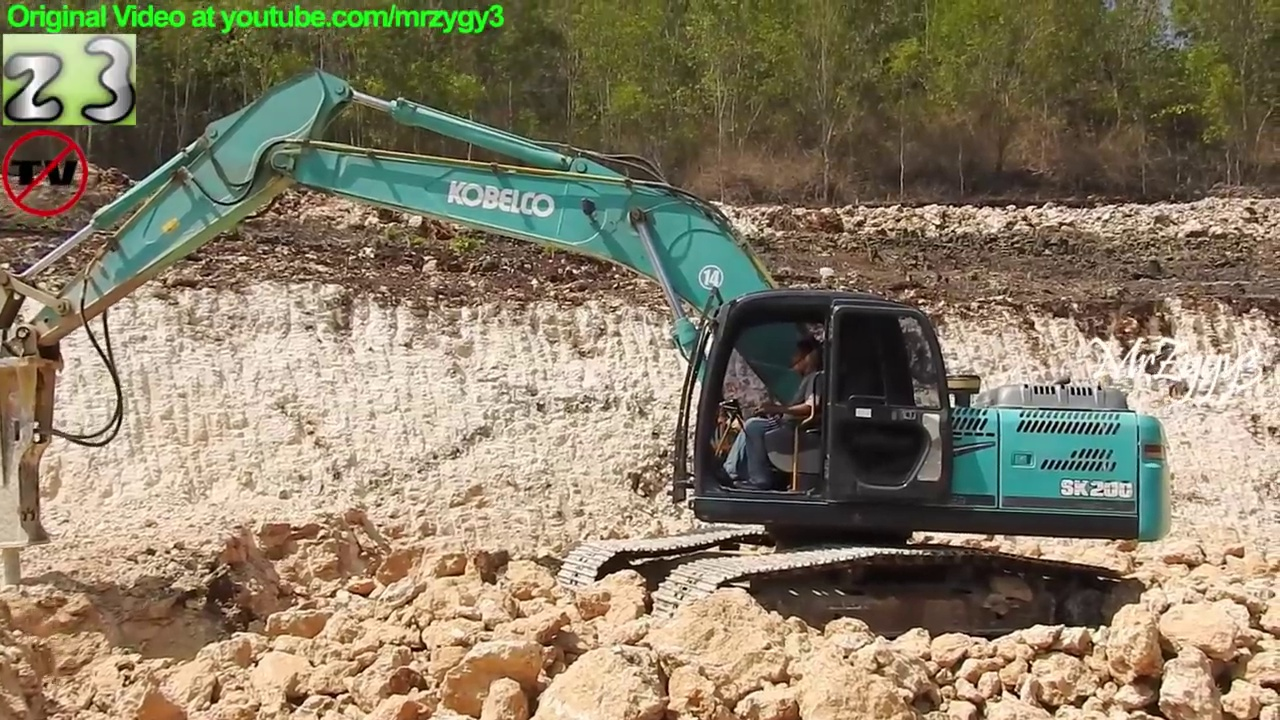excavator breaker: (1, 60, 1175, 651)
